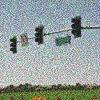traffic lights: (72, 16, 82, 40)
